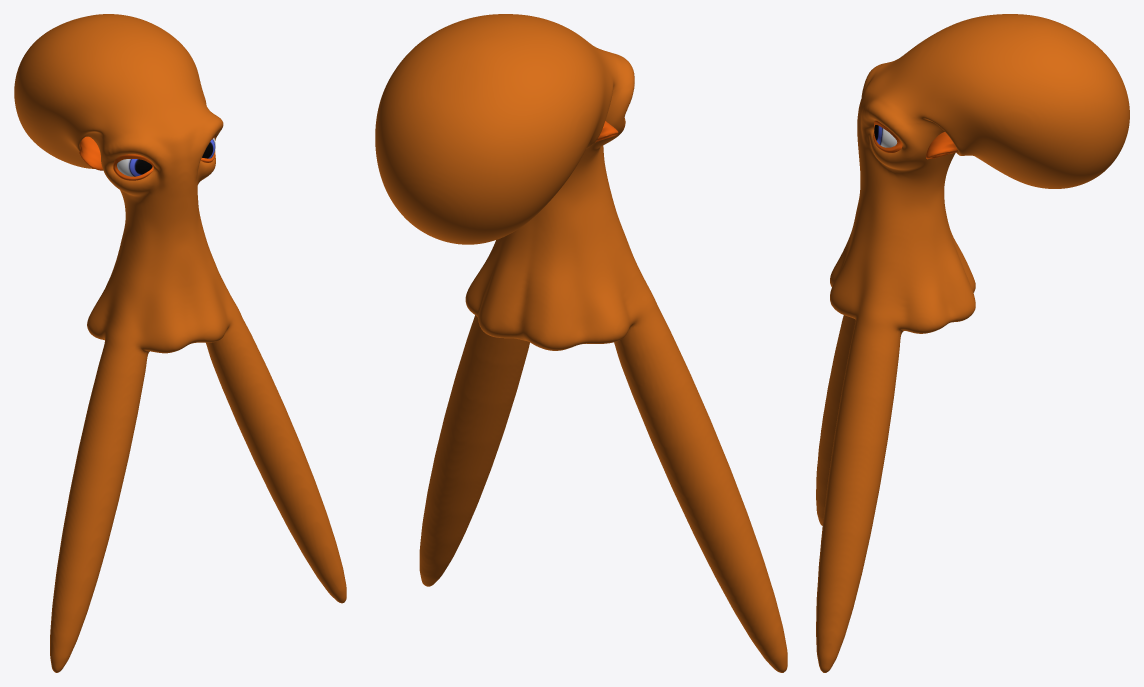
Rendered from Fishes_Little_Octopus_1_Base.glb.
3 views of the same model, side by side, from view 1: azimuth 30°, elevation 25°; view 2: azimuth 150°, elevation 25°; view 3: azimuth 270°, elevation 25° (orthographic). The views are drawn at different scales.
Parts seen in each view (by area): view 1: Sphere.039, Little fish 02 Eyes_Base.010, Sphere.040, Little fish 02 Eyes_Base.011; view 2: Sphere.039; view 3: Sphere.039, Sphere.040.
Part boxes in pixels (left/top/right/bottom): Sphere.039: left=14, top=14, right=346, bottom=672; Little fish 02 Eyes_Base.010: left=117, top=138, right=215, bottom=176; Sphere.040: left=79, top=136, right=103, bottom=170; Little fish 02 Eyes_Base.011: left=113, top=135, right=215, bottom=180; Sphere.039: left=375, top=14, right=787, bottom=672; Sphere.039: left=816, top=14, right=1129, bottom=672; Sphere.040: left=926, top=132, right=957, bottom=159.
Bounding box in the file's own units: 1.19 × 2.11 × 1.04.
